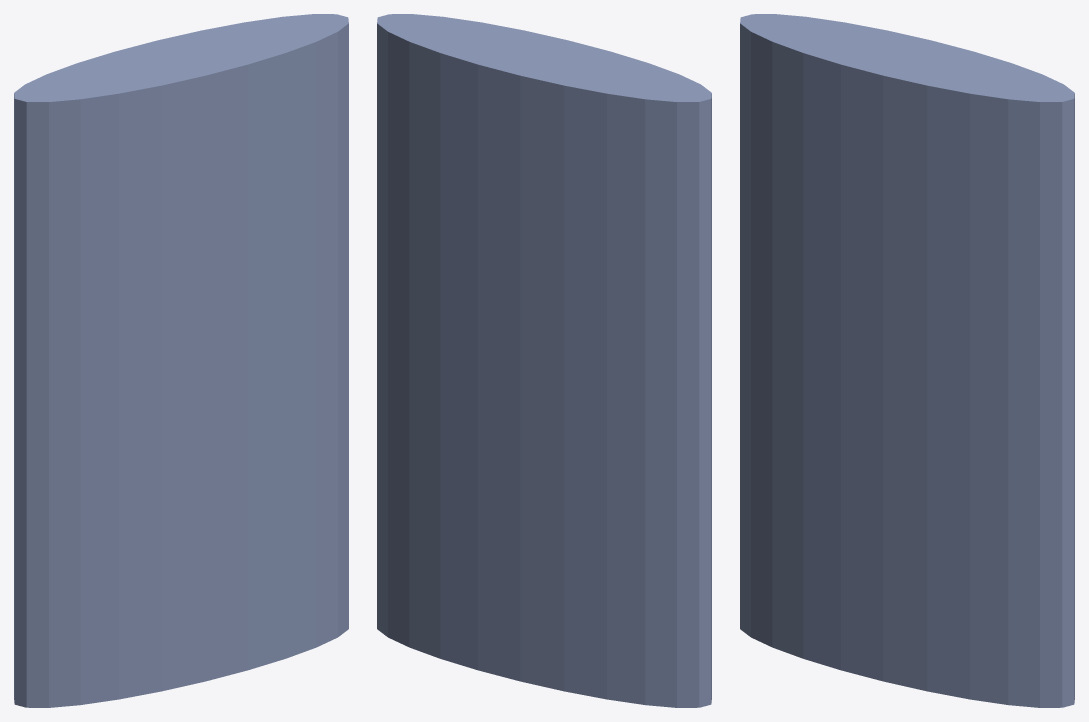
File: own_cyl_64x111x16_4a5a8a.glb
3 views of the same model, side by side, from view 1: azimuth 30°, elevation 25°; view 2: azimuth 150°, elevation 25°; view 3: azimuth 330°, elevation 25° (orthographic).
Visible parts, largest first — view 1: geometry_0; view 2: geometry_0; view 3: geometry_0.
Part boxes in pixels (x1=…): geometry_0: x1=14, y1=14, x2=348, y2=707; geometry_0: x1=377, y1=14, x2=711, y2=707; geometry_0: x1=740, y1=14, x2=1074, y2=707.
Bounding box in the file's own units: 0.64 × 1.11 × 0.16.
